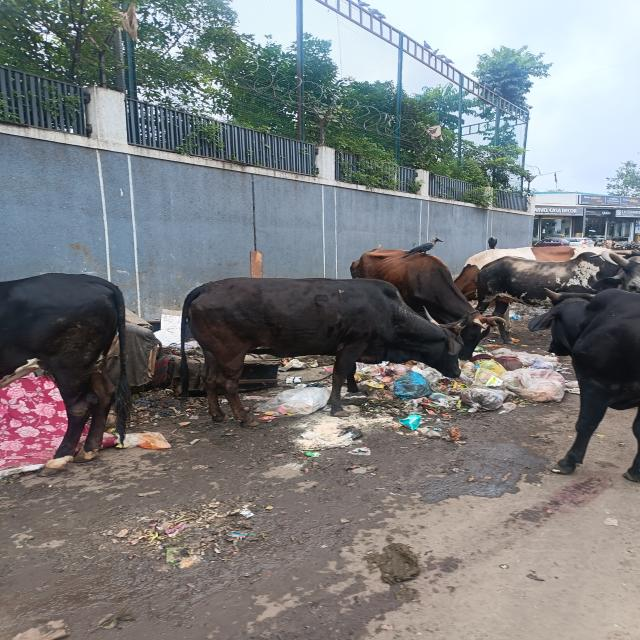garbage: (358, 352, 561, 425), (124, 308, 194, 445), (246, 356, 334, 421)
